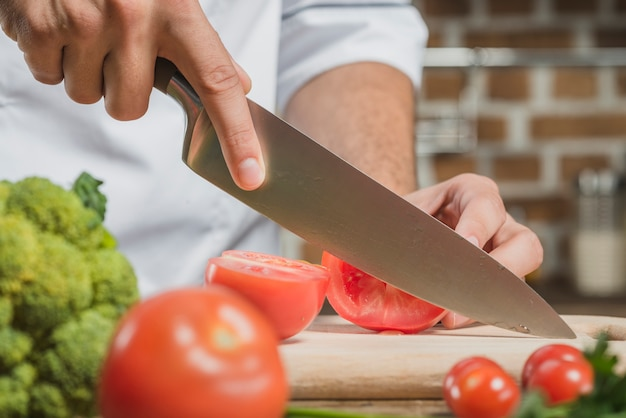knife: (153, 63, 578, 343)
